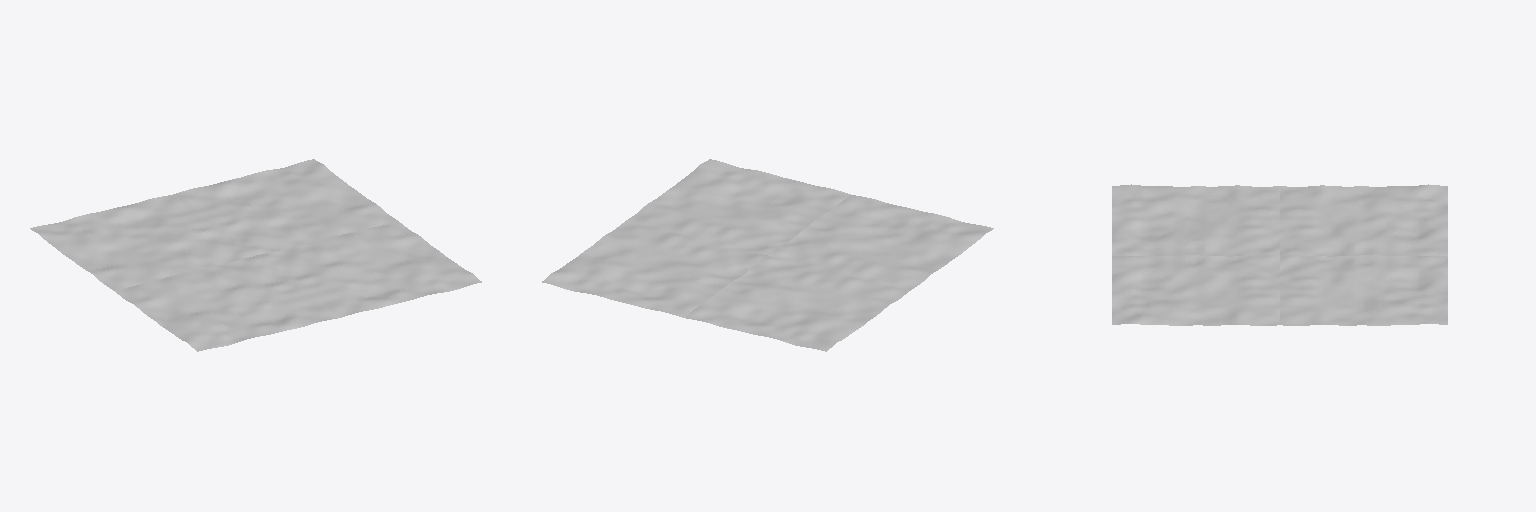
Rendered from ground_m.obj.
3 views of the same model, side by side, from view 1: azimuth 30°, elevation 25°; view 2: azimuth 150°, elevation 25°; view 3: azimuth 270°, elevation 25° (orthographic).
Visible parts, largest first — view 1: 4.001; view 2: 4.001; view 3: 4.001.
Boxes of the visible parts, box(x1,y1,x2,y2) form: 4.001: box(30, 159, 481, 351); 4.001: box(542, 159, 993, 351); 4.001: box(1112, 184, 1447, 325).
Size of the model in its own units: 554 by 7.27 by 567.